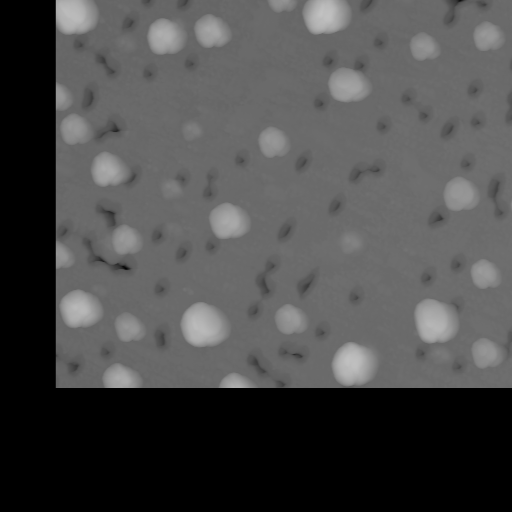Hole: (341, 152, 394, 184), (250, 252, 281, 295), (399, 84, 433, 123), (436, 0, 496, 19), (76, 232, 107, 267), (486, 172, 508, 220), (90, 50, 121, 82), (196, 162, 221, 198), (98, 254, 134, 279), (93, 116, 129, 140), (431, 112, 460, 141), (275, 341, 311, 363), (292, 266, 321, 292), (93, 198, 119, 227), (273, 217, 301, 242), (295, 150, 315, 183), (371, 110, 396, 135), (497, 82, 511, 125), (151, 269, 175, 294), (77, 79, 96, 110), (423, 210, 454, 227), (323, 191, 349, 211), (170, 240, 195, 260), (317, 46, 345, 63), (139, 64, 161, 85), (465, 75, 482, 101), (149, 221, 169, 243), (241, 297, 261, 319), (369, 27, 387, 51), (66, 354, 84, 378), (229, 143, 248, 165), (55, 217, 73, 240), (72, 34, 92, 54), (269, 369, 292, 386), (352, 52, 372, 71), (95, 339, 114, 359), (346, 282, 364, 303), (248, 349, 266, 369), (180, 53, 200, 70), (201, 237, 221, 254), (117, 11, 134, 30), (448, 353, 467, 370), (469, 108, 484, 129), (154, 326, 168, 348), (308, 90, 325, 108), (417, 266, 434, 283), (448, 252, 462, 272), (359, 0, 381, 12), (313, 322, 330, 337), (178, 164, 191, 183), (462, 154, 476, 171), (413, 344, 426, 361), (173, 0, 195, 9), (135, 0, 157, 6), (507, 318, 511, 343)
Particle: (176, 299, 241, 349), (404, 293, 466, 345), (330, 340, 384, 386), (55, 285, 109, 330), (144, 13, 191, 57), (321, 66, 375, 104), (204, 200, 254, 241), (81, 148, 132, 186), (300, 0, 354, 34), (266, 299, 313, 338), (250, 123, 293, 163), (189, 11, 235, 48), (55, 0, 102, 33), (440, 173, 479, 209), (404, 26, 446, 59), (469, 16, 505, 54), (109, 224, 147, 260), (469, 335, 508, 369), (97, 359, 145, 386), (110, 310, 148, 344), (467, 257, 503, 290), (58, 114, 95, 146), (334, 224, 368, 258), (177, 114, 208, 146), (211, 368, 261, 386), (156, 177, 187, 203), (55, 242, 76, 271), (55, 78, 72, 110), (265, 0, 296, 15), (507, 186, 511, 224)
